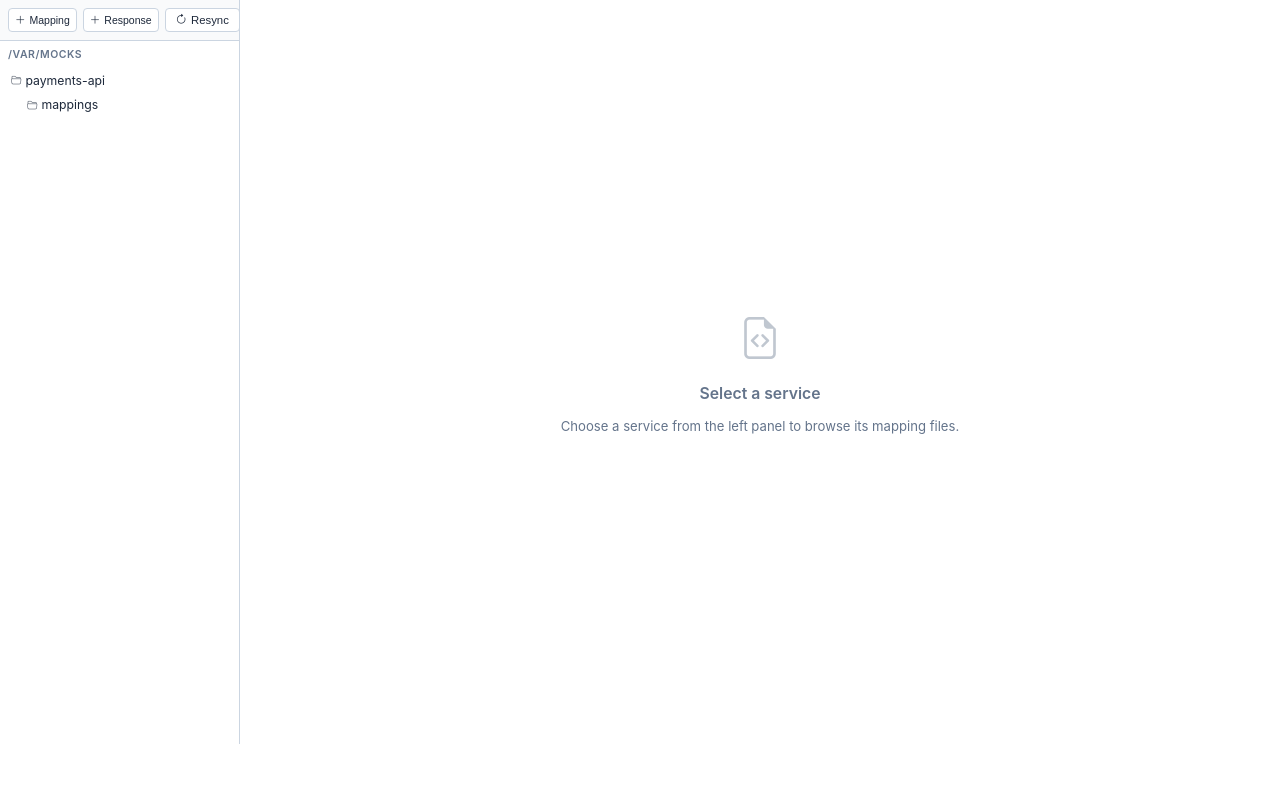
MappingsPage — empty state when service is selected but no files › clicking New Response from empty state opens file name modal
Click the text "payments-api" at (65, 80), box [25,73,105,88]
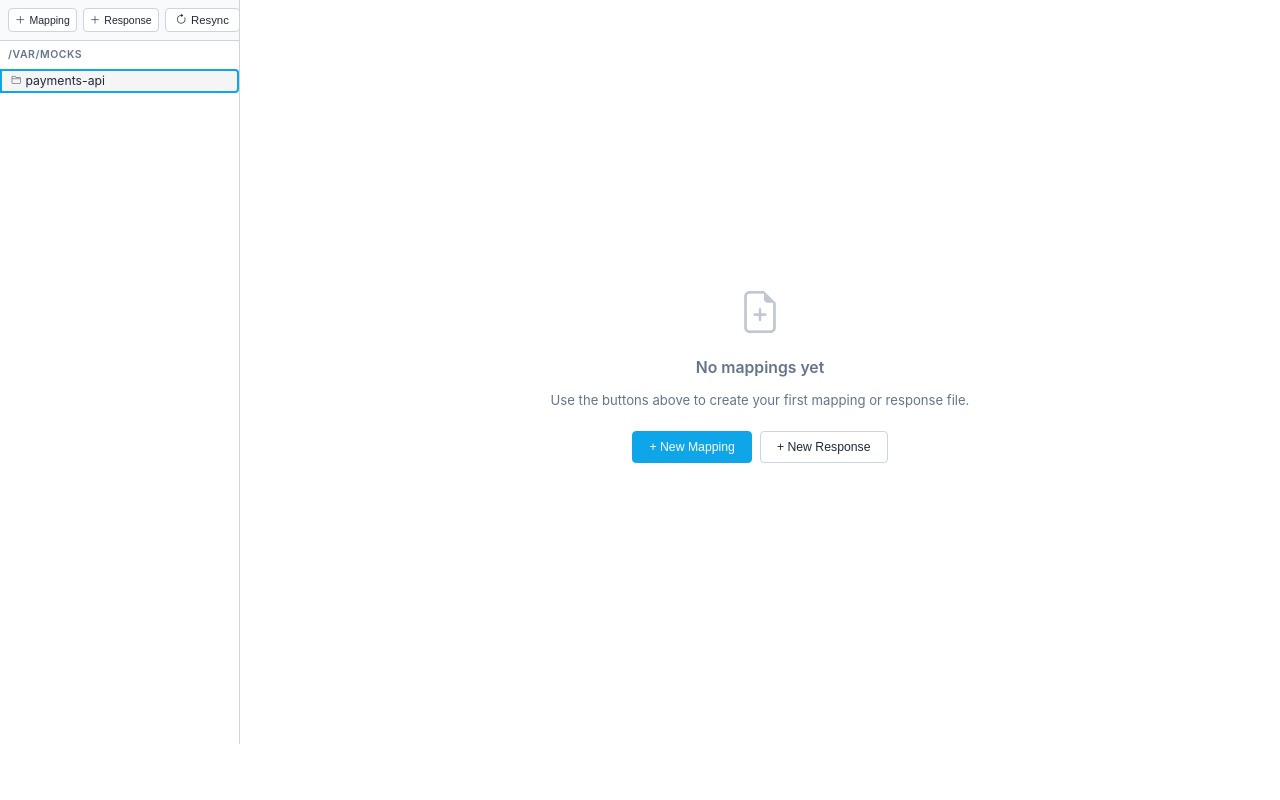
Expected: the button with test id "mappings-btn-new-response-empty" is shown
Click the button with test id "mappings-btn-new-response-empty" at (824, 447), box [760,431,888,463]
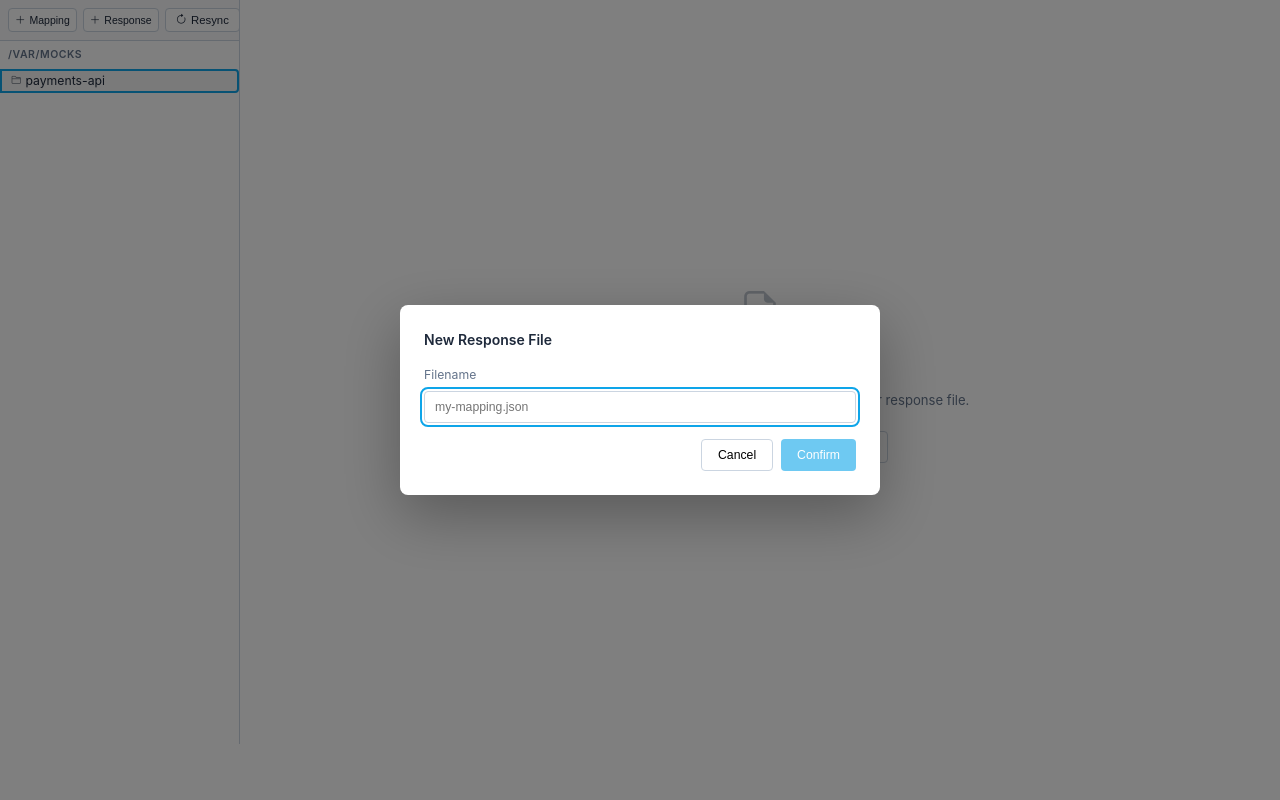
Expected: the dialog with test id "mappings-modal-file-name" is shown
